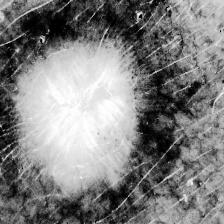Benign Marking or Mole: (12, 47, 153, 191)
